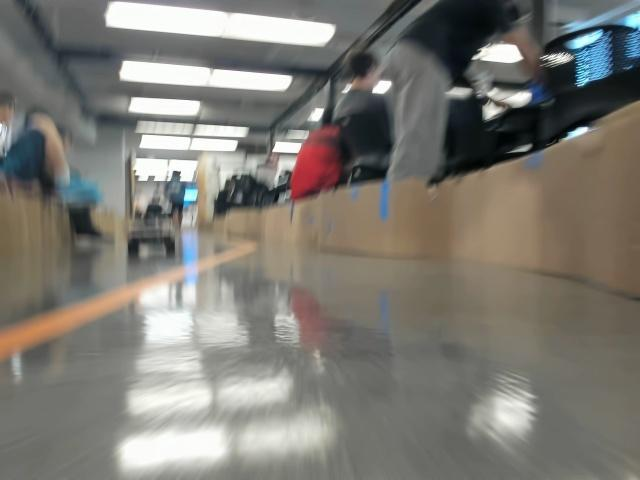Car: (126, 204, 175, 253)
